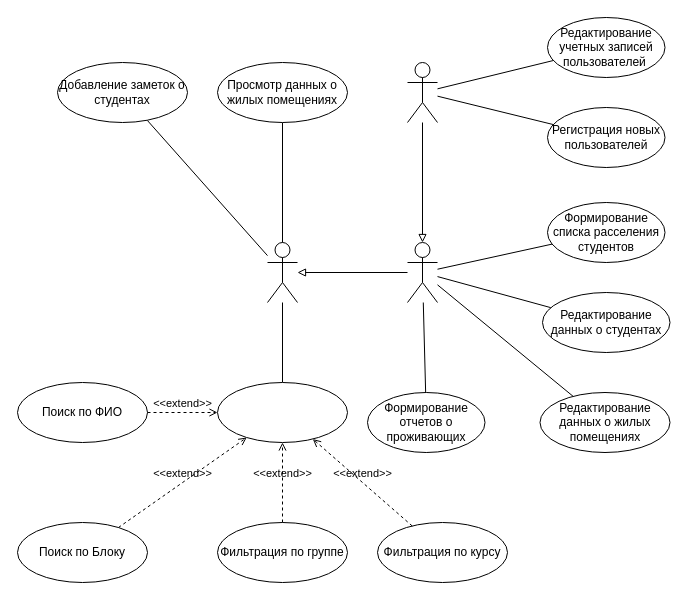
This 688x600 diagram has some shape labels left out. The shapes that lost their labels are listed below. From the top down, each one's centre as x and y in pixels, then its label:
At pixel 422 92: "Администратор".
At pixel 282 272: "Воспитатель".
At pixel 422 272: "Комендант".
At pixel 282 412: "Просмотр данных о студентах".
